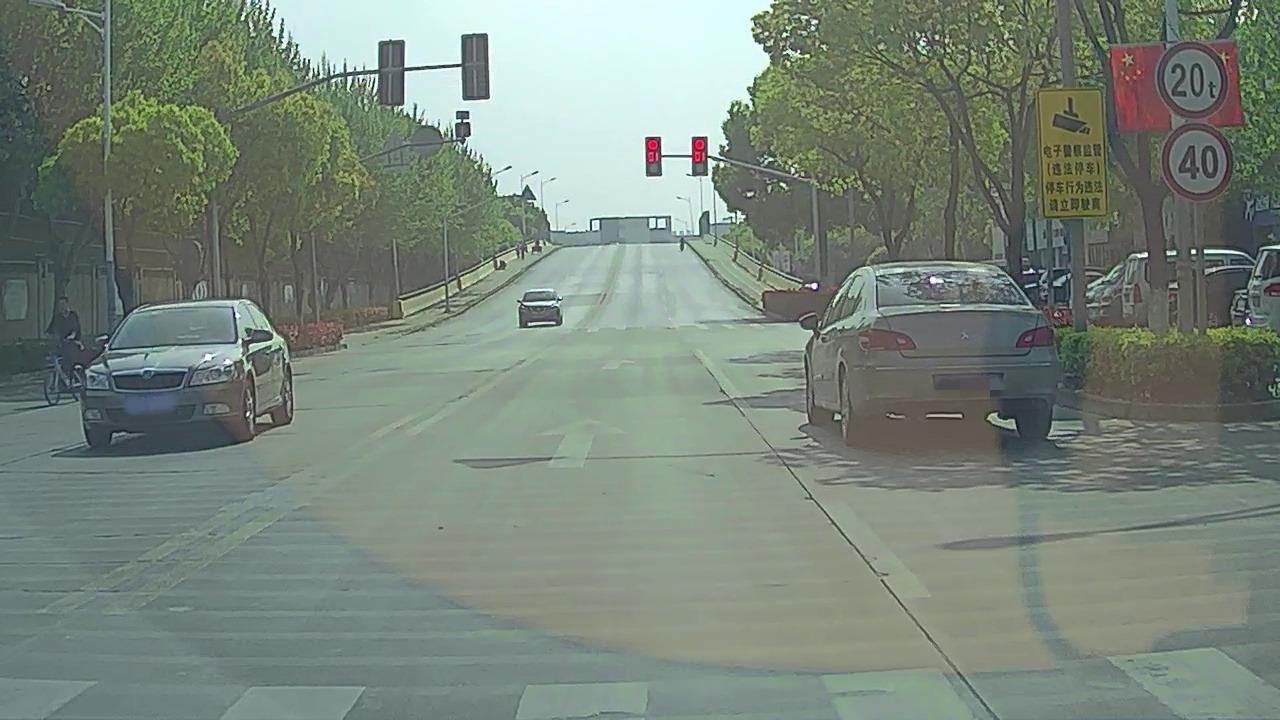traffic_light: (646, 135, 662, 175), (693, 137, 707, 175)
